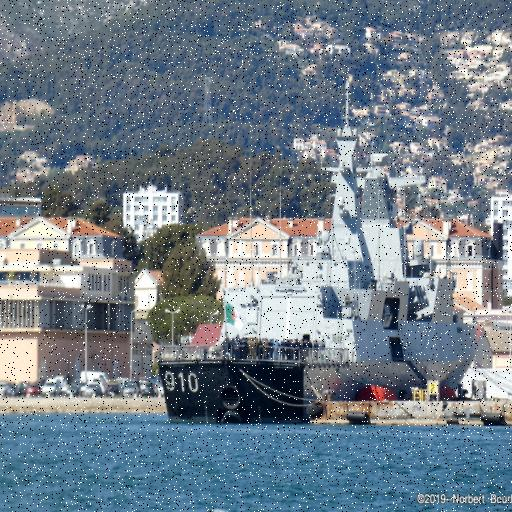Fragata: (157, 73, 483, 431)
